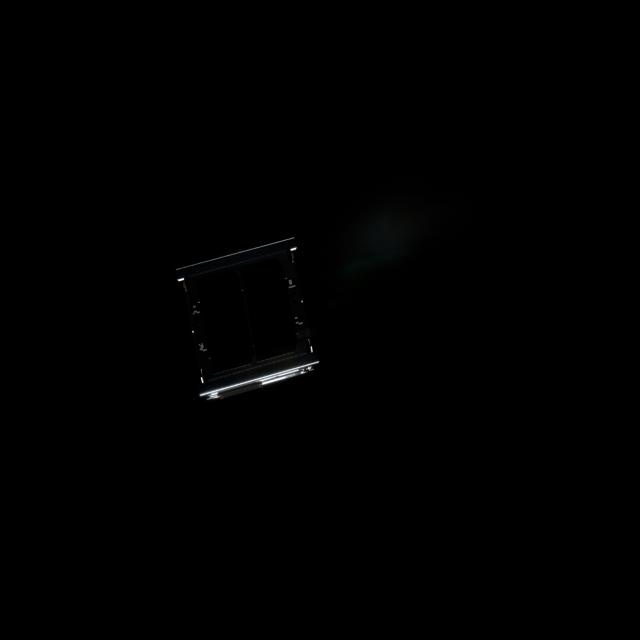satellite: (174, 229, 321, 409)
